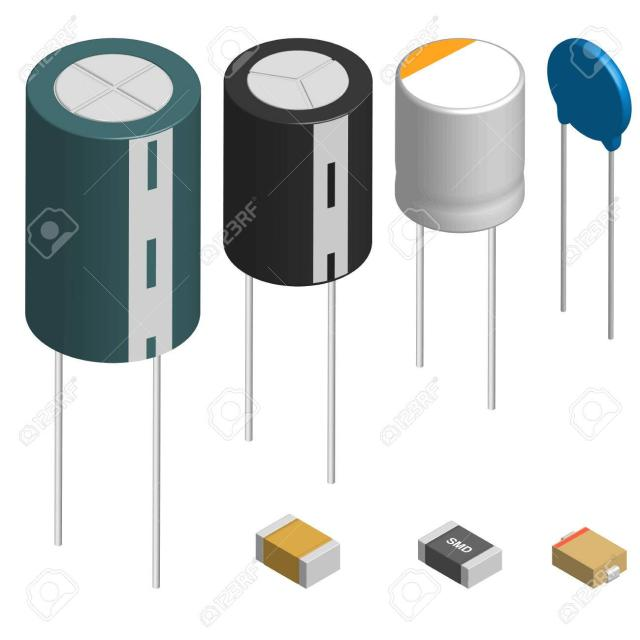capacitor: (25, 37, 204, 586), (223, 37, 375, 475), (394, 38, 527, 410), (549, 37, 634, 341)
